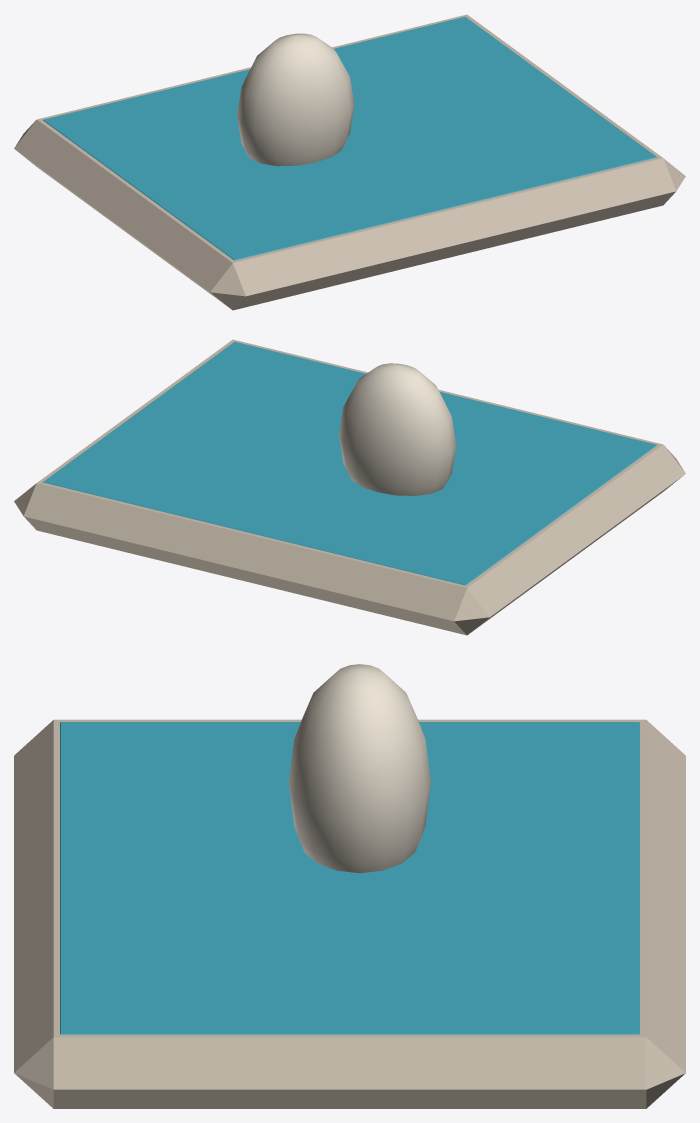
The model's file is fountain_park_lod2_v2.glb.
3 views of the same model, one above another, from view 1: azimuth 30°, elevation 25°; view 2: azimuth 150°, elevation 25°; view 3: azimuth 270°, elevation 25° (orthographic). The views are drawn at different scales.
Visible parts, largest first — view 1: LOD2_FOUNTAIN_PARK_Water, LOD2_FOUNTAIN_PARK_Basin, LOD2_FOUNTAIN_PARK_Pebble_01; view 2: LOD2_FOUNTAIN_PARK_Water, LOD2_FOUNTAIN_PARK_Basin, LOD2_FOUNTAIN_PARK_Pebble_01; view 3: LOD2_FOUNTAIN_PARK_Water, LOD2_FOUNTAIN_PARK_Basin, LOD2_FOUNTAIN_PARK_Pebble_01.
Boxes of the visible parts, <box> form: LOD2_FOUNTAIN_PARK_Water: <box>43,16,656,260</box>; LOD2_FOUNTAIN_PARK_Basin: <box>14,14,685,310</box>; LOD2_FOUNTAIN_PARK_Pebble_01: <box>237,33,354,166</box>; LOD2_FOUNTAIN_PARK_Water: <box>43,341,656,585</box>; LOD2_FOUNTAIN_PARK_Basin: <box>14,339,685,635</box>; LOD2_FOUNTAIN_PARK_Pebble_01: <box>339,363,456,495</box>; LOD2_FOUNTAIN_PARK_Water: <box>60,722,639,1034</box>; LOD2_FOUNTAIN_PARK_Basin: <box>14,719,685,1108</box>; LOD2_FOUNTAIN_PARK_Pebble_01: <box>288,664,430,873</box>.
Size of what is drawn, in the model's own units: 8.4 by 2.7 by 6.8.
